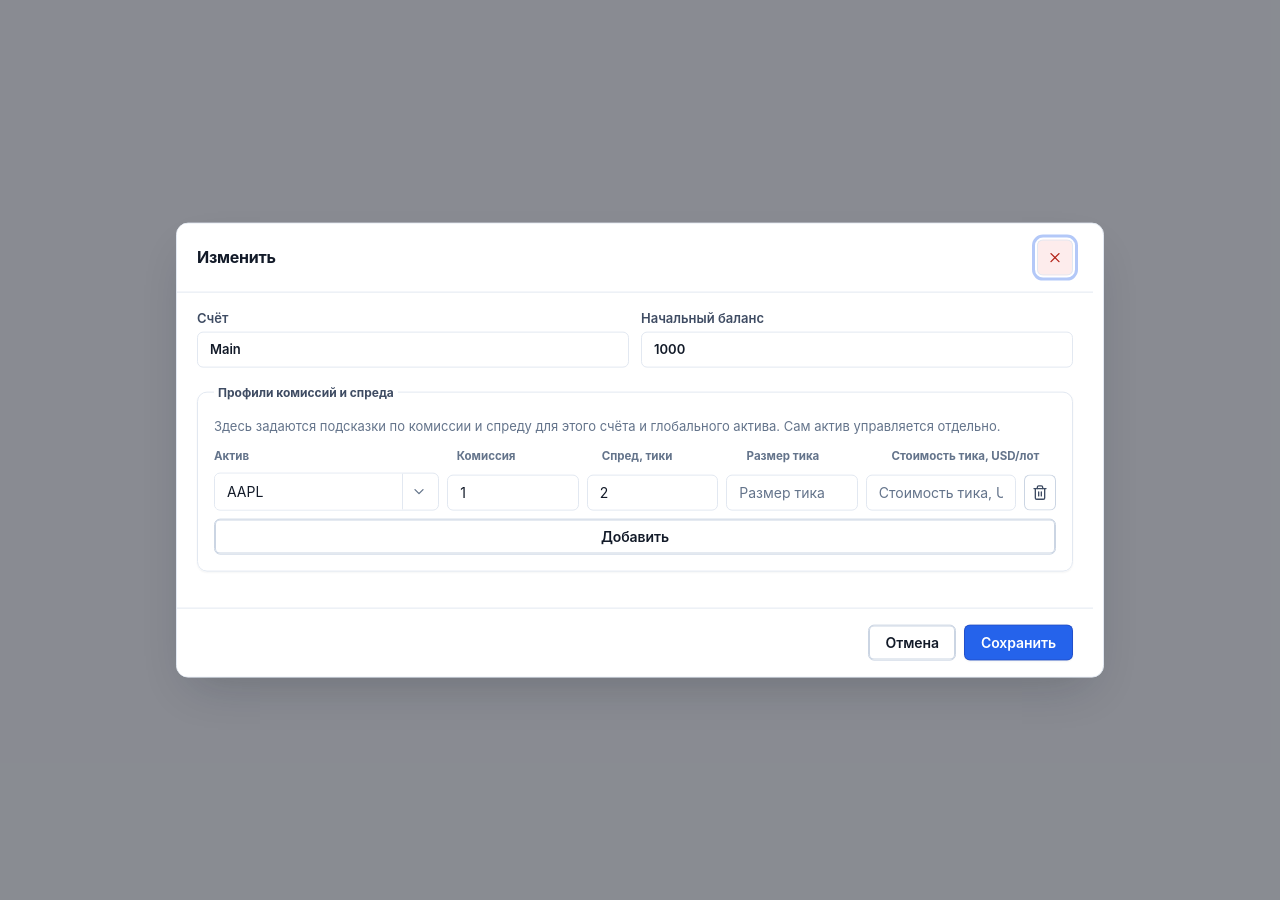
AccountAssetEditorDialogs cost profiles › opens the asset picker with every asset and keeps the recent-use order
Press the mouse on the dropdown named "Актив" at (309, 491), box [215, 473, 402, 509]
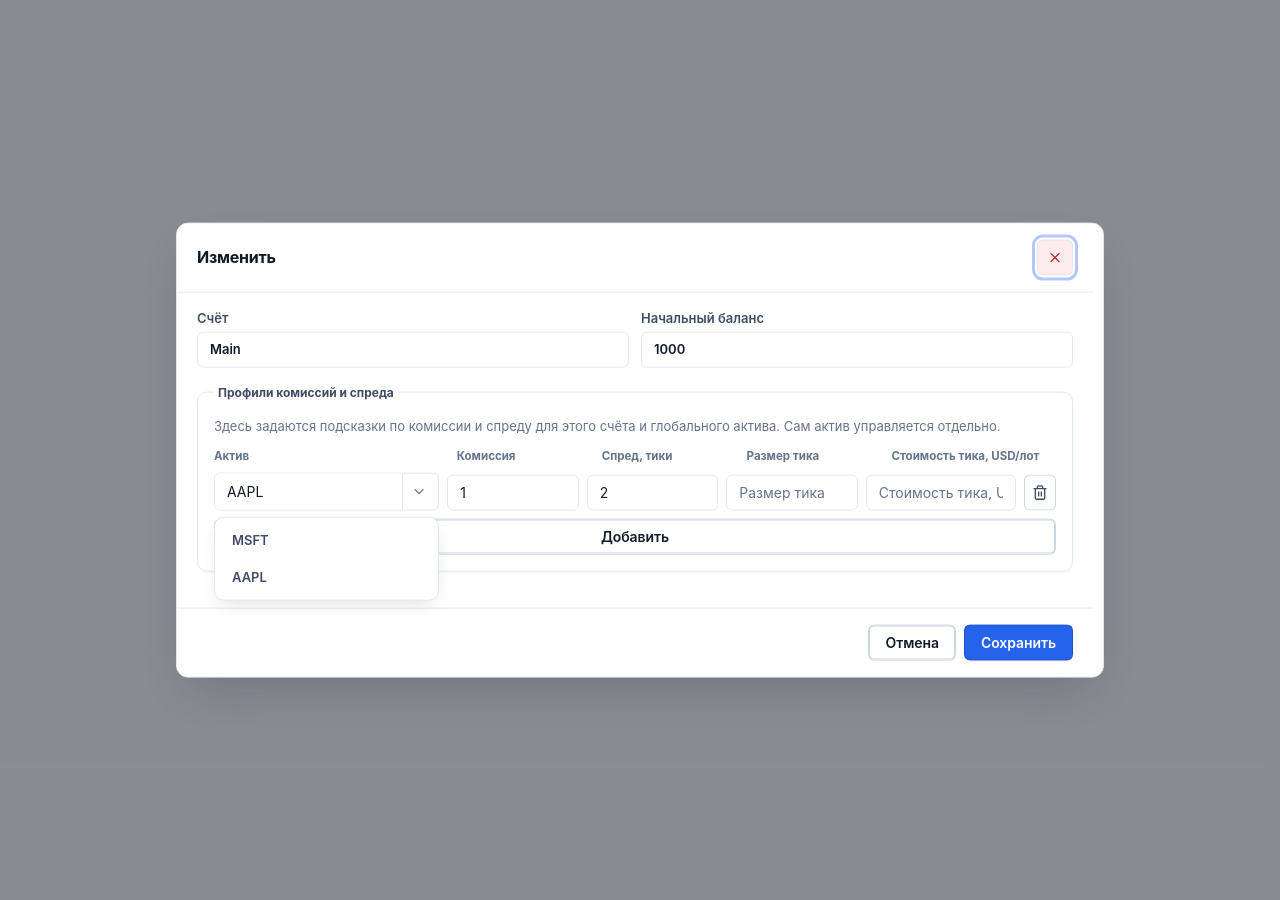
Expected: the options read "MSFT", "AAPL", in this order, [232, 532, 269, 548]; [232, 568, 267, 584]
